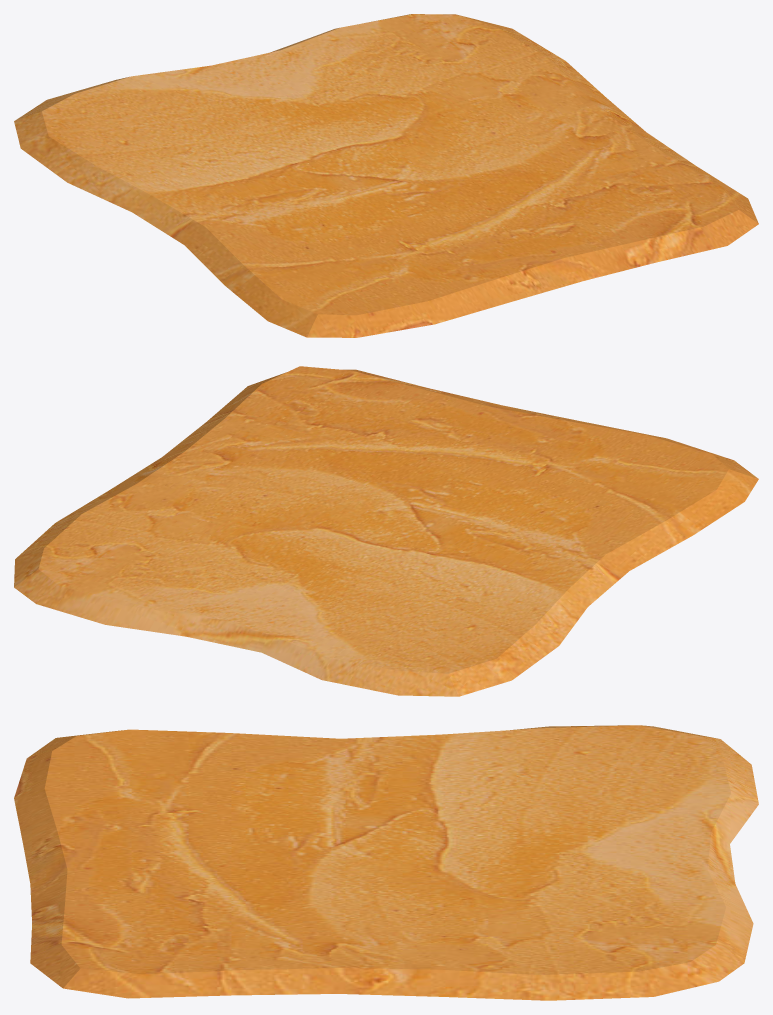
The picture shows the model from 3 angles, top to bottom: view 1: azimuth 30°, elevation 25°; view 2: azimuth 150°, elevation 25°; view 3: azimuth 270°, elevation 25°; orthographic projection. The views are drawn at different scales.
Visible parts, largest first — view 1: Peanut_butter; view 2: Peanut_butter; view 3: Peanut_butter.
Part boxes in pixels (bbox=[...]): Peanut_butter: bbox=[14, 14, 758, 337]; Peanut_butter: bbox=[14, 366, 758, 696]; Peanut_butter: bbox=[14, 725, 758, 1000].
Bounding box in the file's own units: 0.7237 × 0.0162 × 0.8306.
Materials: 1 (1 with a texture image).
